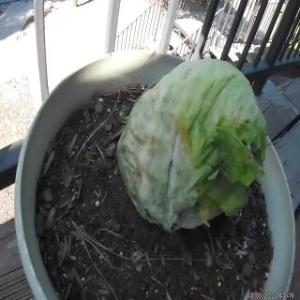cabbage: (114, 50, 268, 244)
